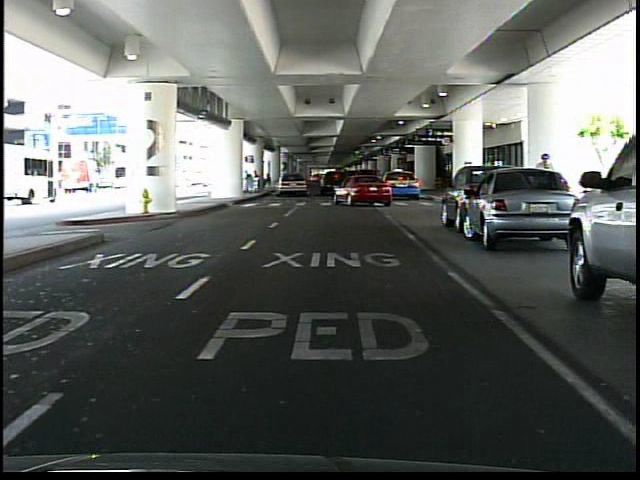person: (534, 150, 561, 236)
